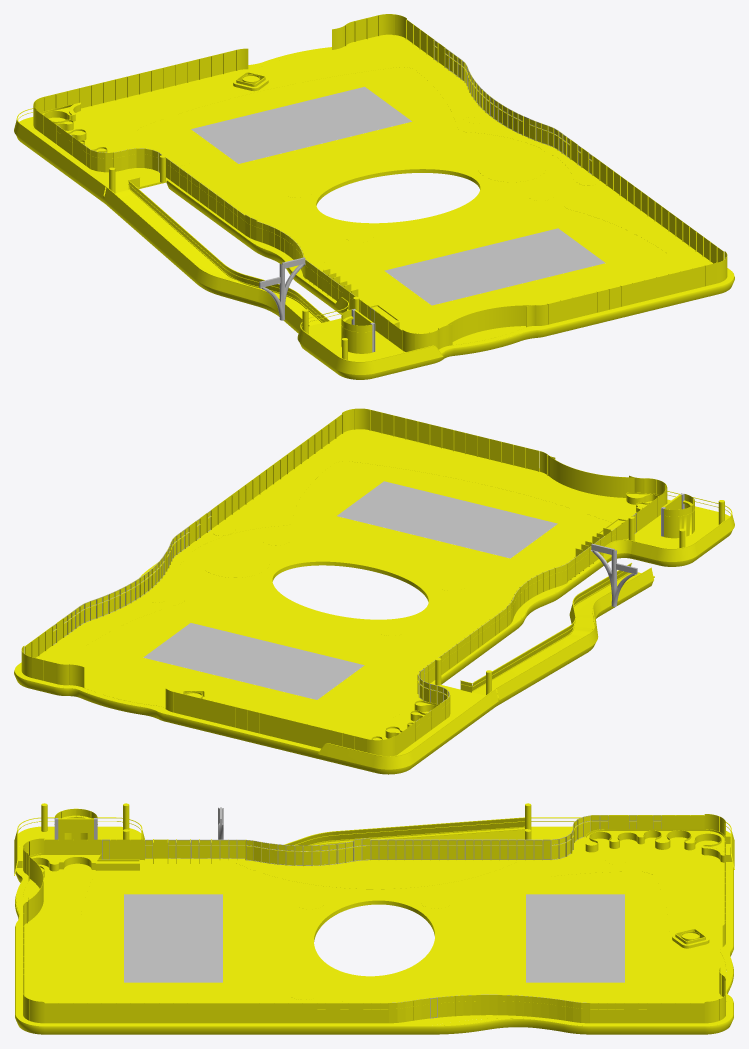
Rendered from sm_hana_building_4f_out.glb.
3 views of the same model, one above another, from view 1: azimuth 30°, elevation 25°; view 2: azimuth 150°, elevation 25°; view 3: azimuth 270°, elevation 25° (orthographic). The views are drawn at different scales.
Parts seen in each view (by area): view 1: sm_hana_building_4f_out; view 2: sm_hana_building_4f_out; view 3: sm_hana_building_4f_out.
Boxes of the visible parts, left/top/right/bottom form: sm_hana_building_4f_out: left=14, top=14, right=734, bottom=379; sm_hana_building_4f_out: left=14, top=408, right=734, bottom=774; sm_hana_building_4f_out: left=14, top=803, right=734, bottom=1034.
Bounding box in the file's own units: 66.18 × 11.14 × 100.
14 materials, 11 textured.
